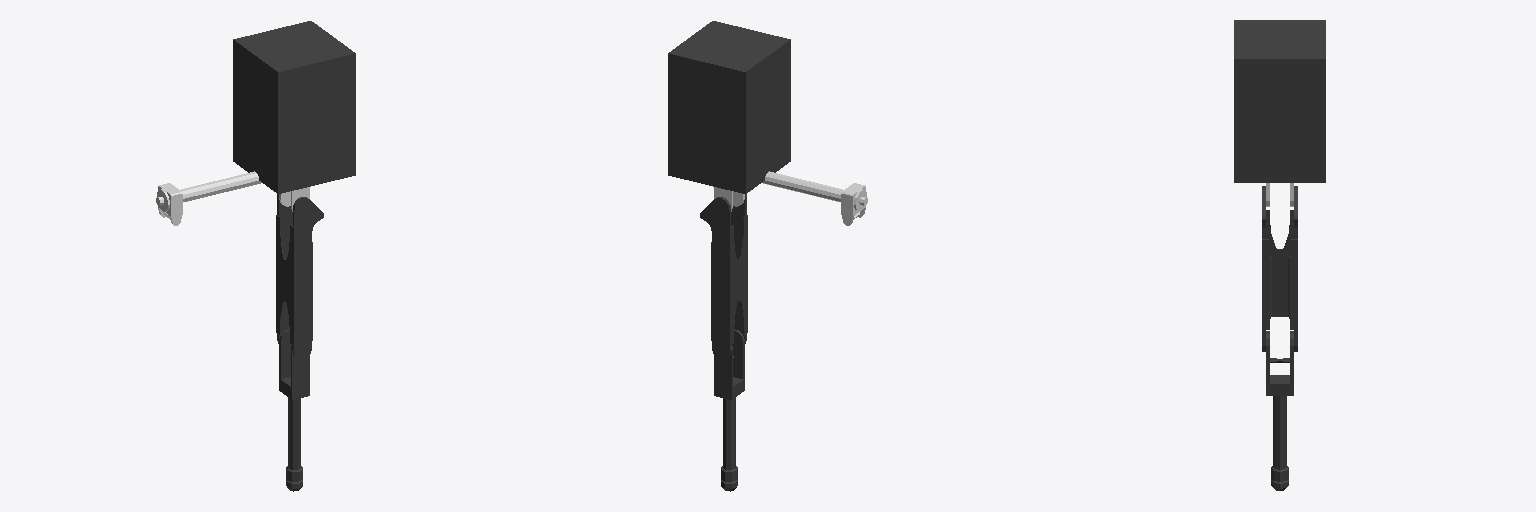
robot.urdf — monoped:
<robot name="monoped">
  <link name="base">
    <visual>
      <geometry>
        <box size="0.20 0.20 0.30"/>
      </geometry>
      <material name="blue">
        <color rgba="0.3 0.3 0.3 1.0"/>
      </material>
    </visual>
  </link>

  <link name="hipassembly">
    <visual>
      <origin rpy="0.0 0.0 0.0" xyz="0.0 0.0 0.0"/>
      <geometry>
        <mesh filename="package://xpp_hyq/meshes/leg/hipassembly.dae" scale="1 1 1"/>
      </geometry>
      <material name="white"/>
    </visual>
  </link>
  <link name="upperleg">
    <visual>
      <origin rpy="0.0 0.0 0.0" xyz="0.0 0.0 0.0"/>
      <geometry>
        <mesh filename="package://xpp_hyq/meshes/leg/upperleg.dae" scale="1 1 1"/>
      </geometry>
      <material name="blue"/>
    </visual>
  </link>
  <link name="lowerleg">
    <visual>
      <geometry>
        <mesh filename="package://xpp_hyq/meshes/leg/lowerleg.dae" scale="1 1 1"/>
      </geometry>
      <material name="blue"/>
    </visual>
  </link>

  <joint name="haa_joint" type="revolute">
    <origin xyz="0.0 0.0 -0.15000" rpy="2.0344439357957036 1.5707962290814481 -1.1071487177940917"/>
    <parent link="base"/>
    <child link="hipassembly"/>
    <limit effort="200" lower="-1.6" upper="1.6" velocity="1.0"/>
    <axis xyz="0 0 1"/>
  </joint>
  <joint name="hfe_joint" type="revolute">
    <origin xyz="0.08000 0.00000 0.00000" rpy="1.5707963705062866 -0.0 0.0"/>
    <parent link="hipassembly"/>
    <child link="upperleg"/>
    <limit effort="200" lower="-1.6" upper="1.6" velocity="1.0"/>
    <axis xyz="0 0 1"/>
  </joint>
  <joint name="kfe_joint" type="revolute">
    <origin xyz="0.35000 0.00000 0.00000" rpy="0.0 0.0 0.0"/>
    <parent link="upperleg"/>
    <child link="lowerleg"/>
    <limit effort="200" lower="-1.6" upper="1.6" velocity="1.0"/>
    <axis xyz="0 0 1"/>
  </joint>
</robot>

--- Render facts (derived) ---
3 views of the same robot in one strip: view 1: azimuth 30°, elevation 25°; view 2: azimuth 150°, elevation 25°; view 3: azimuth 270°, elevation 25° (orthographic).
Robot: monoped — 4 links, 3 joints (3 revolute); root link base; default pose: every joint at zero.
Visible links, largest first — view 1: base, upperleg, lowerleg, hipassembly; view 2: base, upperleg, lowerleg, hipassembly; view 3: base, upperleg, lowerleg.
Link boxes in pixels (x1,y1,x2,y2): base: (233, 21, 355, 193); upperleg: (276, 194, 323, 358); lowerleg: (279, 329, 309, 491); hipassembly: (156, 171, 309, 225); base: (668, 21, 790, 193); upperleg: (700, 194, 747, 358); lowerleg: (714, 329, 744, 491); hipassembly: (714, 171, 867, 225); base: (1234, 20, 1325, 182); upperleg: (1262, 186, 1297, 351); lowerleg: (1266, 331, 1293, 490).
Bounding box of the posed robot: 0.4507 × 0.2 × 1.09 m (x, y, z).
3 mesh visuals loaded from 3 distinct referenced files (3 Collada DAE).